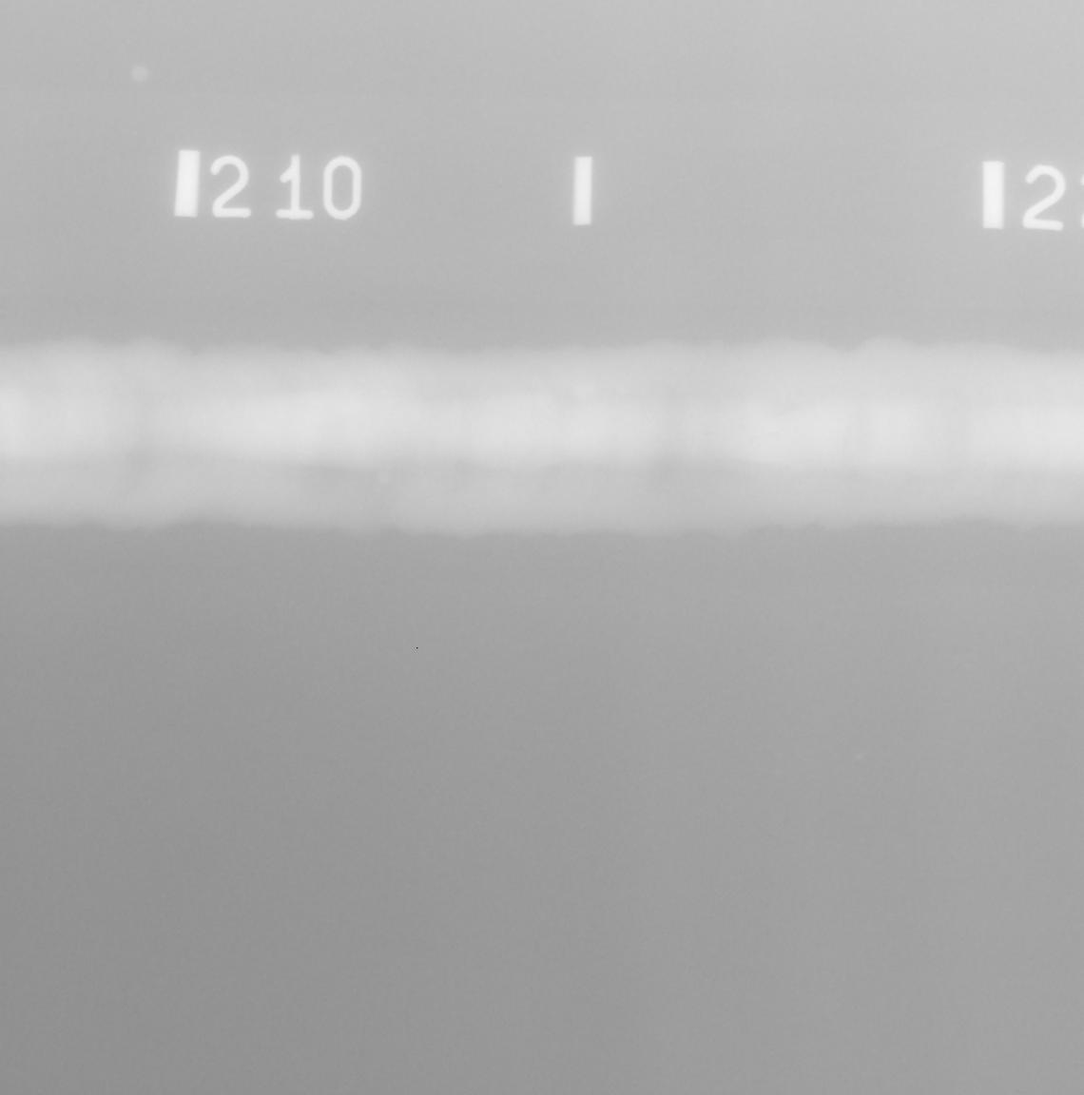Pore/Porosity: (705, 432, 711, 437)
